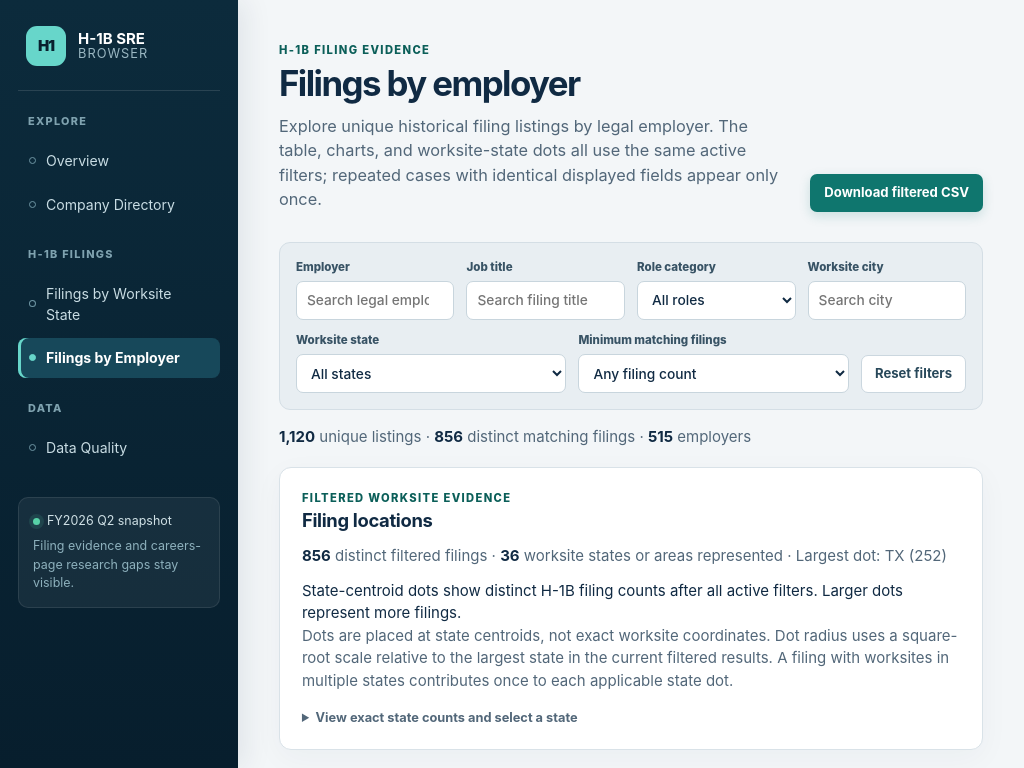
Scenario: coordinates employer filing filters across the drilldown and worksite map
The image size is (1024, 768).
expect the heading "Filings by employer" is shown: met, box [279,62,580,104]
expect the message reads "1,120 unique listings · 856 distinct matching filings · 515 employers": met, box [279,427,751,446]
Select "DevOps" in the dropdown labelled "Role category": (716, 300) [637,281,796,320]
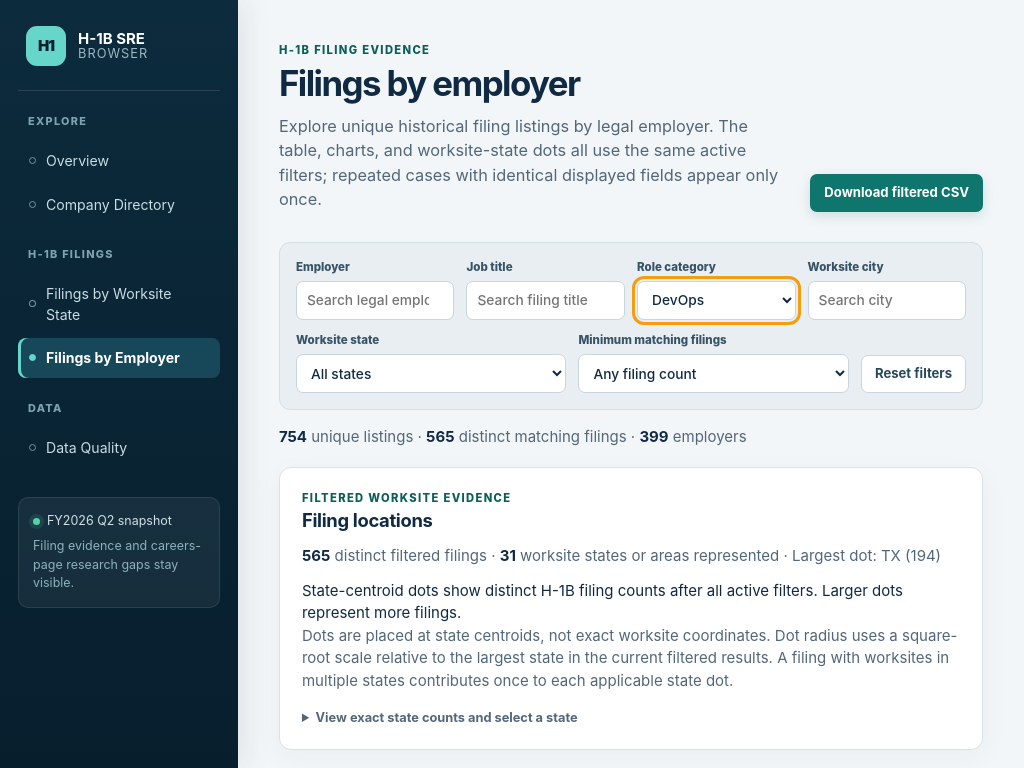
expect the message reads "754 unique listings · 565 distinct matching filings · 399 employers": met, box [279,427,747,446]
Select "TX" in the dropdown labelled "Worksite state": (431, 374) [296,354,566,393]
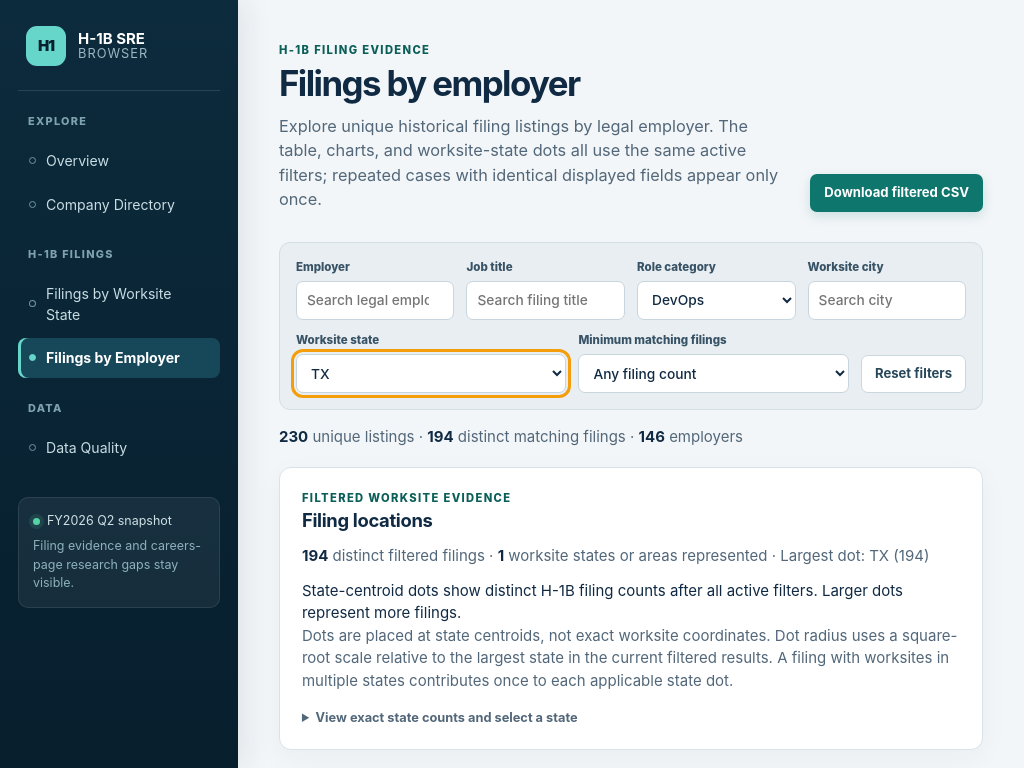
expect the message reads "230 unique listings · 194 distinct matching filings · 146 employers": met, box [279,427,743,446]
expect the element named "Filtered distinct H-1B filings by worksite state" shows "194 distinct filtered filings · 1 worksite states or areas represented": met, box [302,545,960,728]
